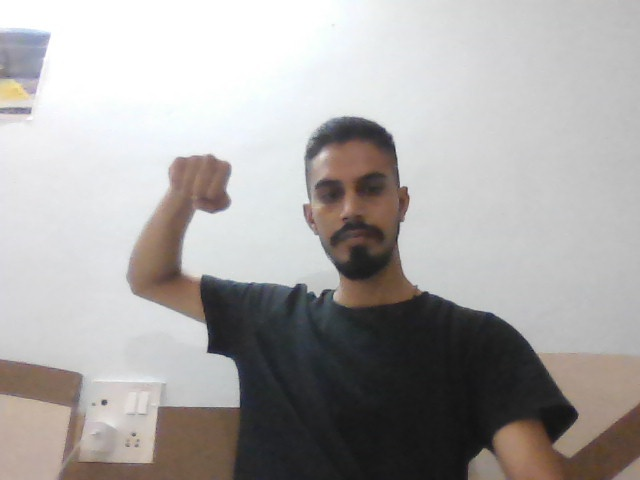Yes: (158, 150, 249, 213)
